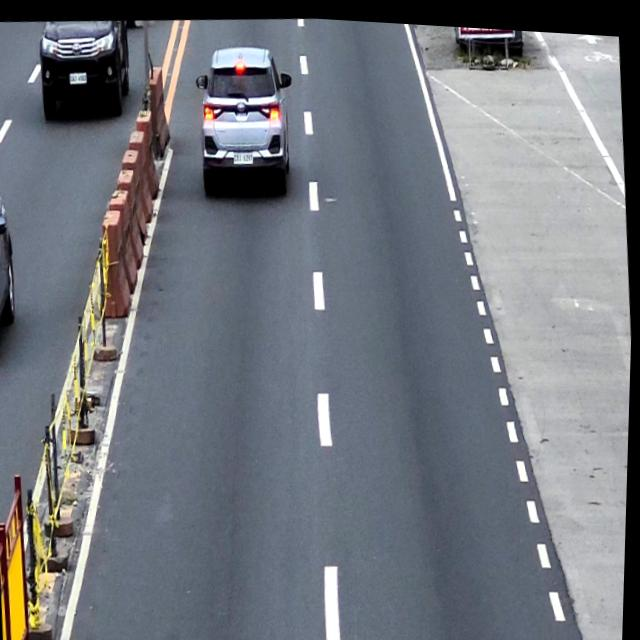Car: (190, 38, 301, 197)
License-Plate: (233, 147, 255, 162)
